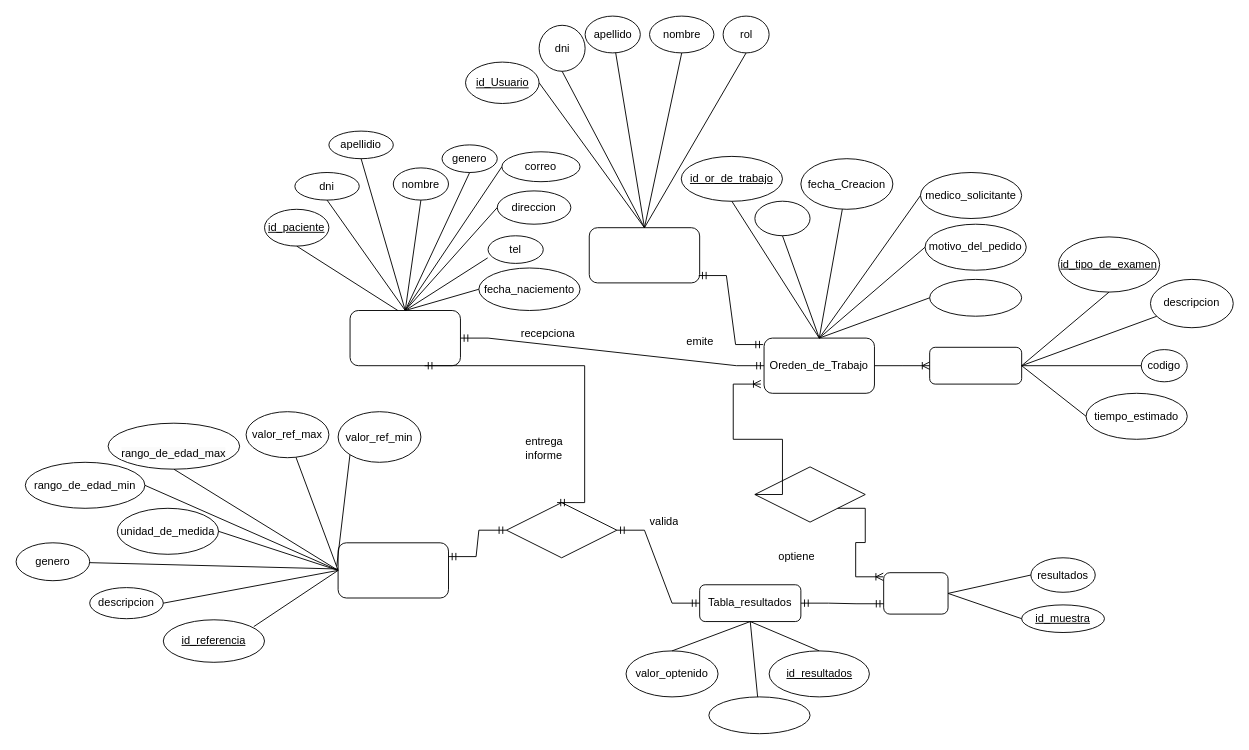
The diagram is 1249 pixels wide and 750 high, and some of its shapes have lost their labels. The shapes that lost their labels are listed below. From the top down, each one's box as (x1, y1, x2, y2) in pixels, then its label:
(754, 200, 810, 236): estado
(588, 227, 700, 283): Usuario
(929, 278, 1022, 316): observaciones
(349, 310, 460, 366): Paciente
(929, 346, 1022, 384): tipo_de_examen
(754, 466, 865, 522): tec
(506, 502, 617, 558): bioquimico
(337, 542, 448, 598): Tabla_de_Referencia
(883, 572, 948, 614): Muestra
(708, 696, 810, 734): fecha_resultado
